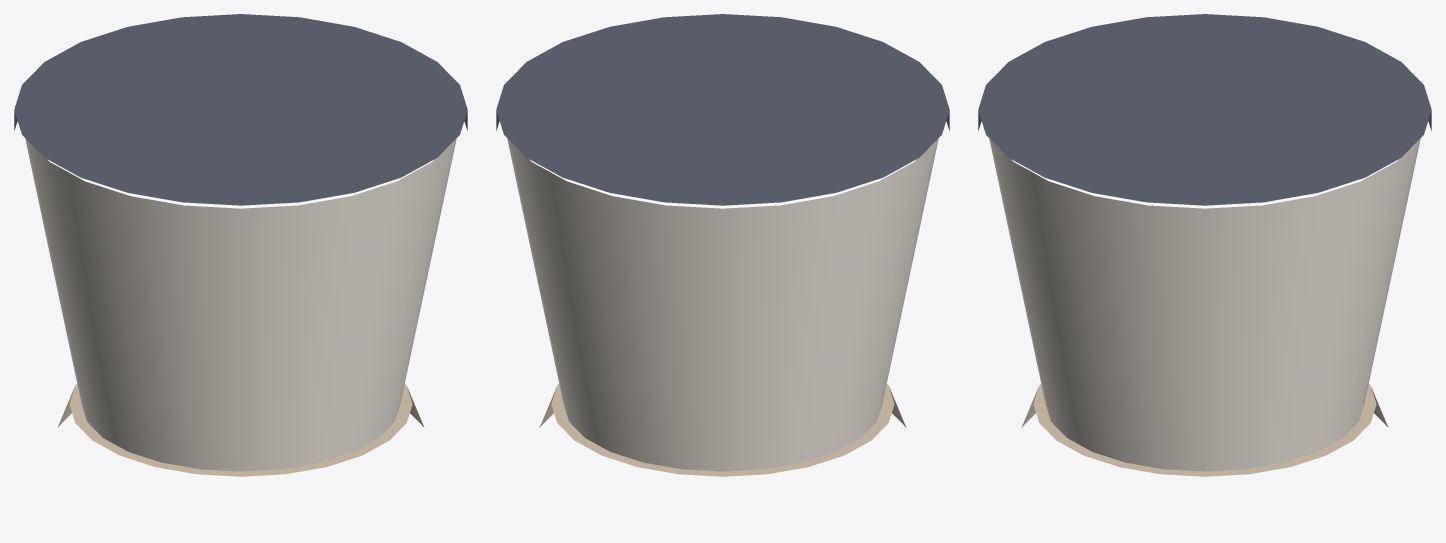
Rendered from SV_MTO_SKU_01_v01.glb.
3 renders of one model, left to right at view 1: azimuth 30°, elevation 25°; view 2: azimuth 150°, elevation 25°; view 3: azimuth 270°, elevation 25°, orthographic.
Visible parts, largest first — view 1: SV_MTO_SKU_01_v01; view 2: SV_MTO_SKU_01_v01; view 3: SV_MTO_SKU_01_v01.
Boxes of the visible parts, x1,y1,x2,y2 form: SV_MTO_SKU_01_v01: (14,14,467,476); SV_MTO_SKU_01_v01: (496,14,949,476); SV_MTO_SKU_01_v01: (978,14,1431,476).
Size of the model in its own units: 0.148 by 0.122 by 0.148.
